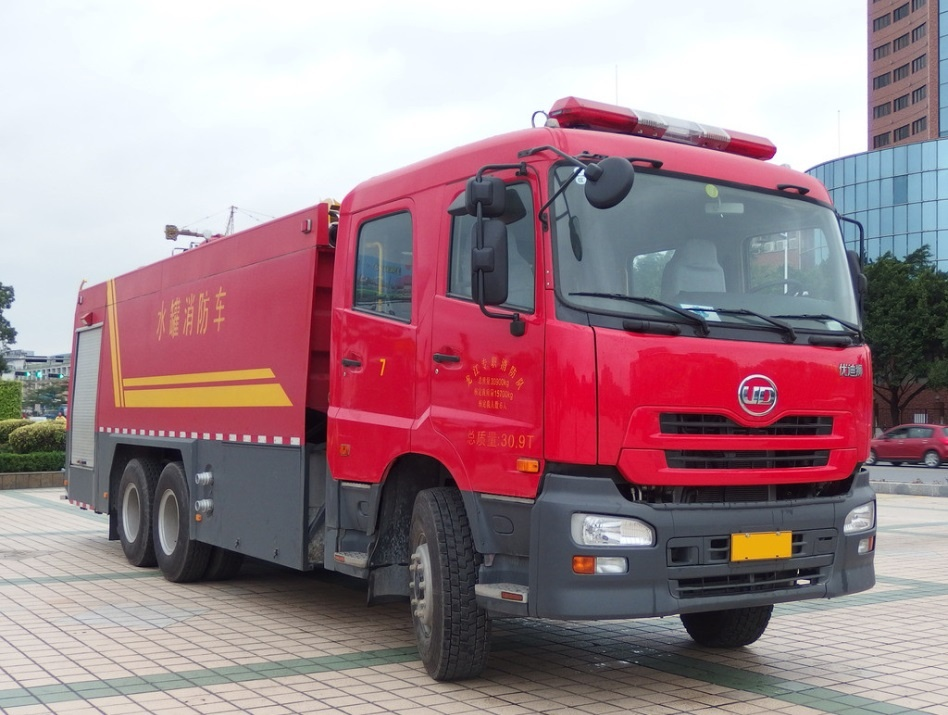fire engine: (53, 90, 889, 696)
